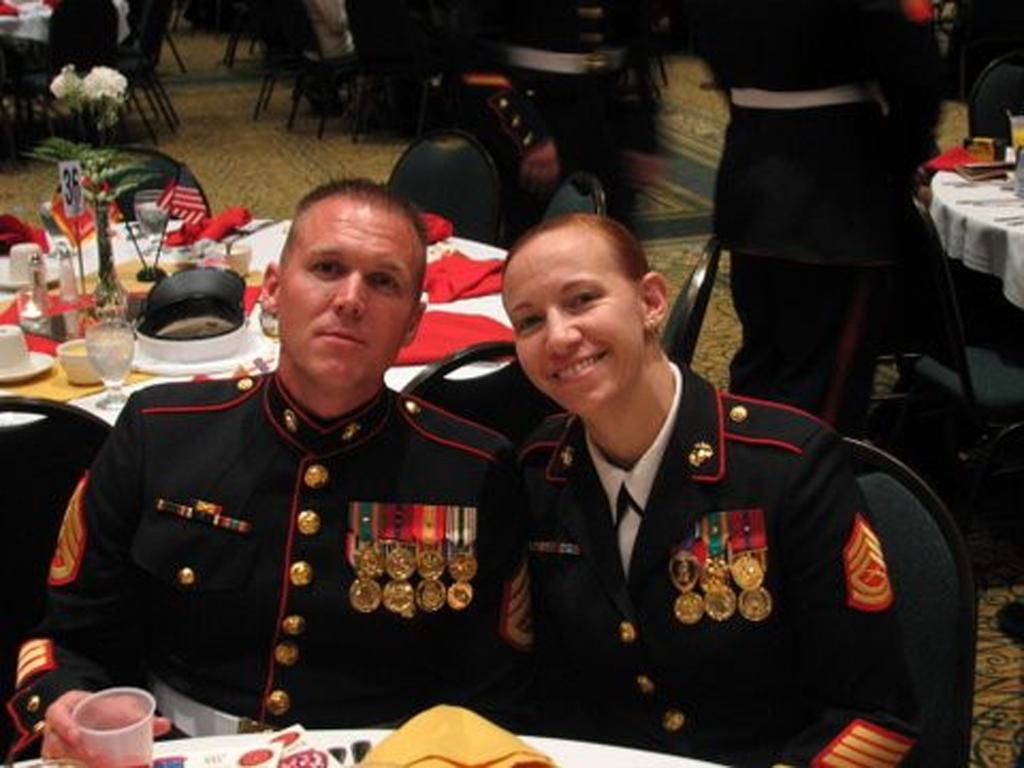face: (278, 194, 416, 388), (506, 238, 642, 416)
